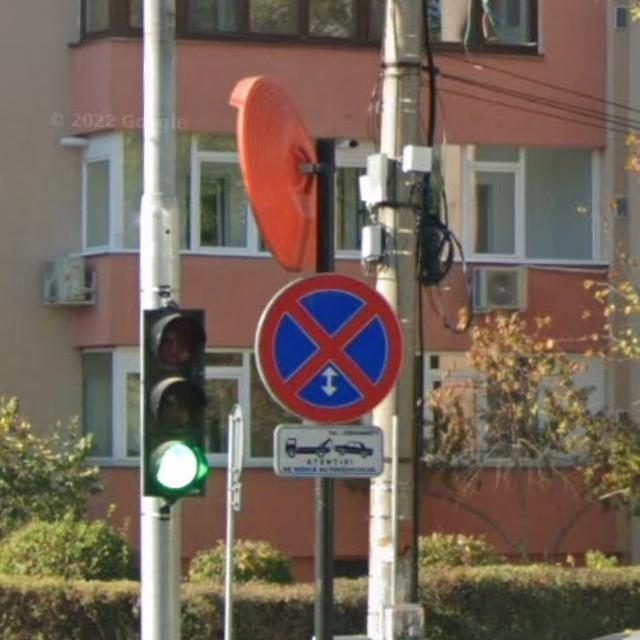forb_waiting: (253, 272, 404, 424)
